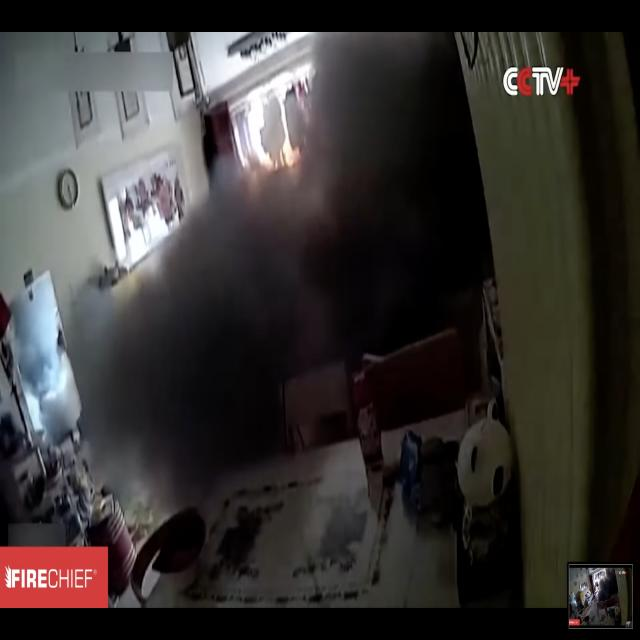Atencao: (15, 43, 560, 482)
